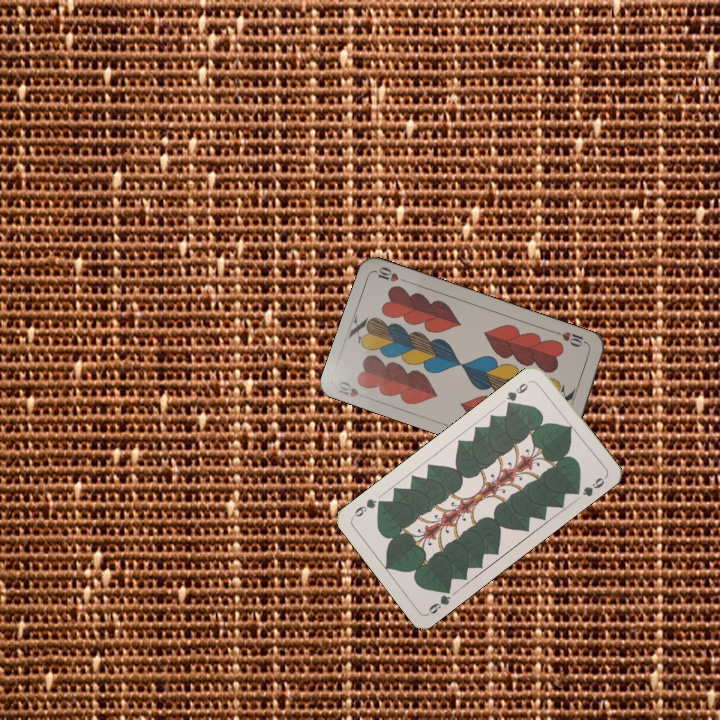G9: (502, 376, 534, 410), (424, 582, 454, 617)
H10: (334, 376, 372, 402), (551, 327, 591, 350)
